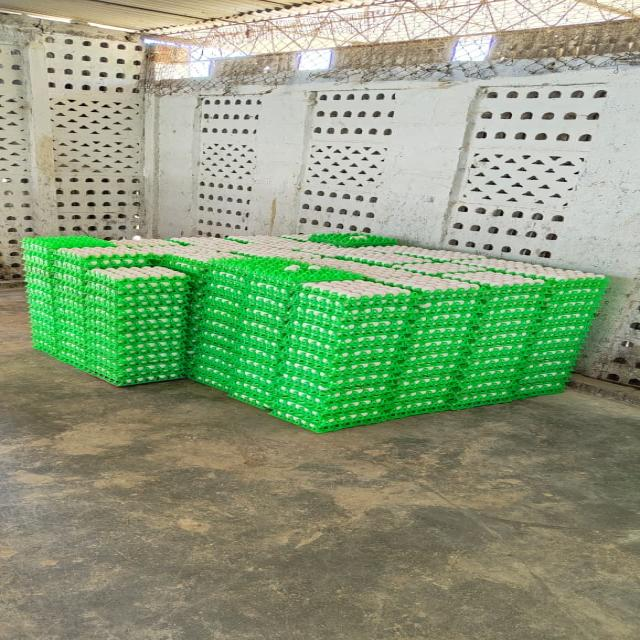egg_tray: (118, 236, 605, 430), (192, 256, 354, 408), (26, 236, 185, 383), (82, 239, 232, 384), (274, 280, 410, 430), (476, 264, 605, 397), (491, 263, 606, 396), (193, 261, 286, 408), (445, 272, 544, 408), (85, 266, 186, 384), (50, 246, 146, 370), (396, 275, 480, 414), (346, 263, 477, 352), (398, 276, 480, 410), (23, 236, 111, 356), (291, 280, 410, 358), (180, 236, 483, 266), (483, 260, 604, 334), (292, 279, 410, 352), (483, 260, 607, 326), (305, 258, 477, 292), (55, 246, 153, 288), (115, 238, 236, 270), (158, 245, 241, 288), (394, 247, 486, 263), (235, 244, 316, 260), (398, 262, 486, 276), (309, 232, 395, 246), (89, 252, 95, 266), (107, 252, 117, 259), (308, 308, 319, 314), (324, 259, 337, 264), (87, 269, 99, 274), (512, 276, 525, 278), (189, 238, 201, 240), (285, 254, 296, 256), (350, 323, 353, 330), (178, 274, 183, 278), (401, 320, 405, 324), (487, 336, 490, 340), (76, 362, 79, 366), (170, 375, 175, 377), (102, 273, 105, 276), (107, 319, 109, 323), (108, 282, 111, 284), (279, 255, 284, 256), (476, 376, 478, 377), (129, 282, 130, 284), (111, 278, 112, 280), (484, 377, 486, 377), (173, 367, 174, 367), (316, 321, 316, 321), (112, 243, 114, 243), (174, 239, 178, 239)
